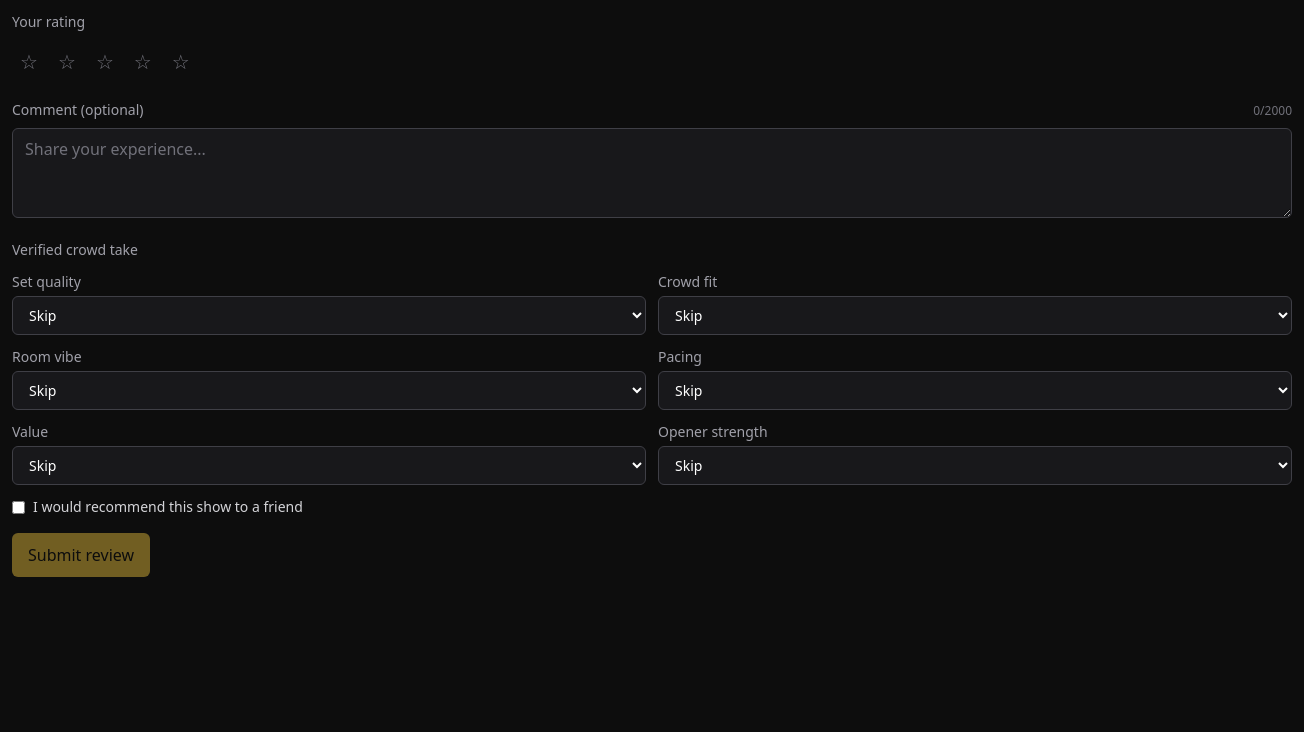
Test: EventRatingForm › submits rating and comment on success
The image size is (1304, 732).
Click the button named "Rate 5 out of 5": (181, 62) [164, 40, 198, 84]
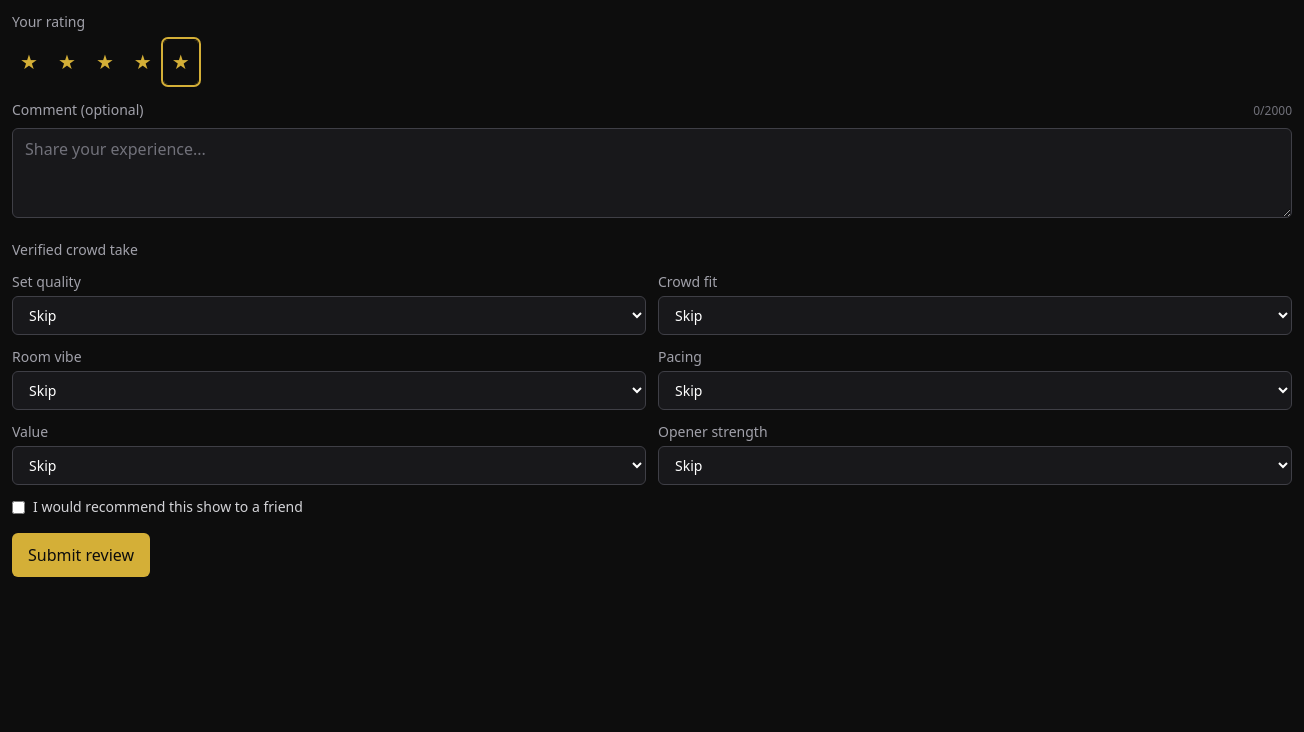
In the text box with placeholder "Share your experience...": (652, 173) [12, 128, 1292, 218], type "Amazing!"
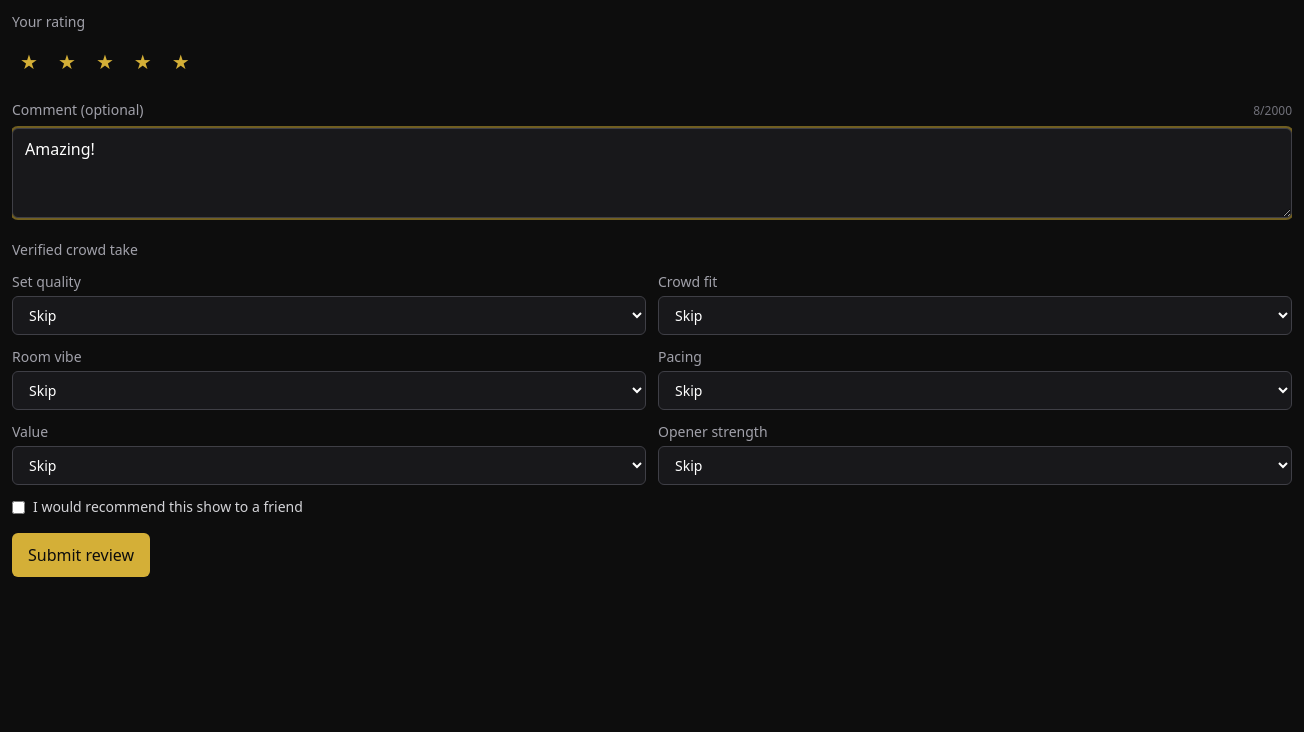
Click the button "Submit review": (81, 555) [12, 533, 150, 577]
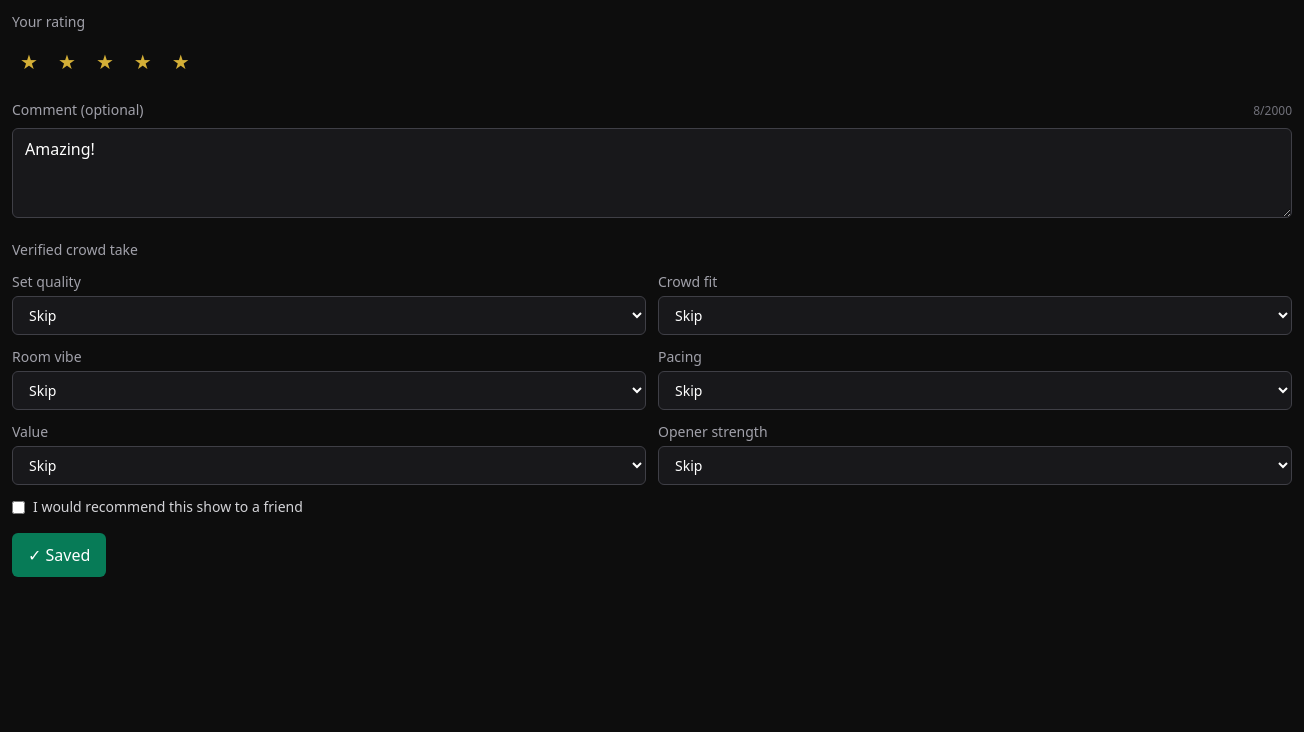
Expected: the button "✓ Saved" is shown, [12, 533, 106, 577]
